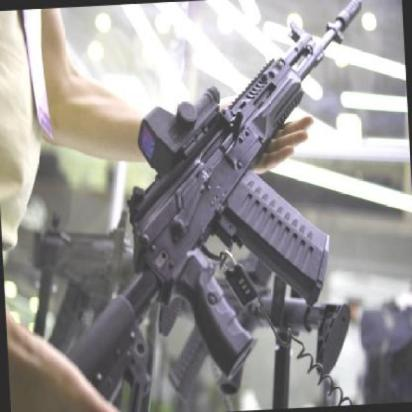Gun: (43, 0, 363, 407)
